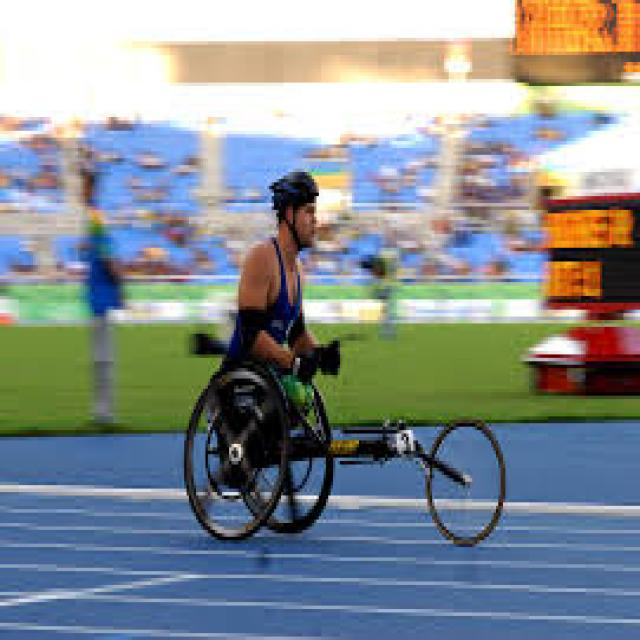wheelchairs: (168, 351, 370, 544)
